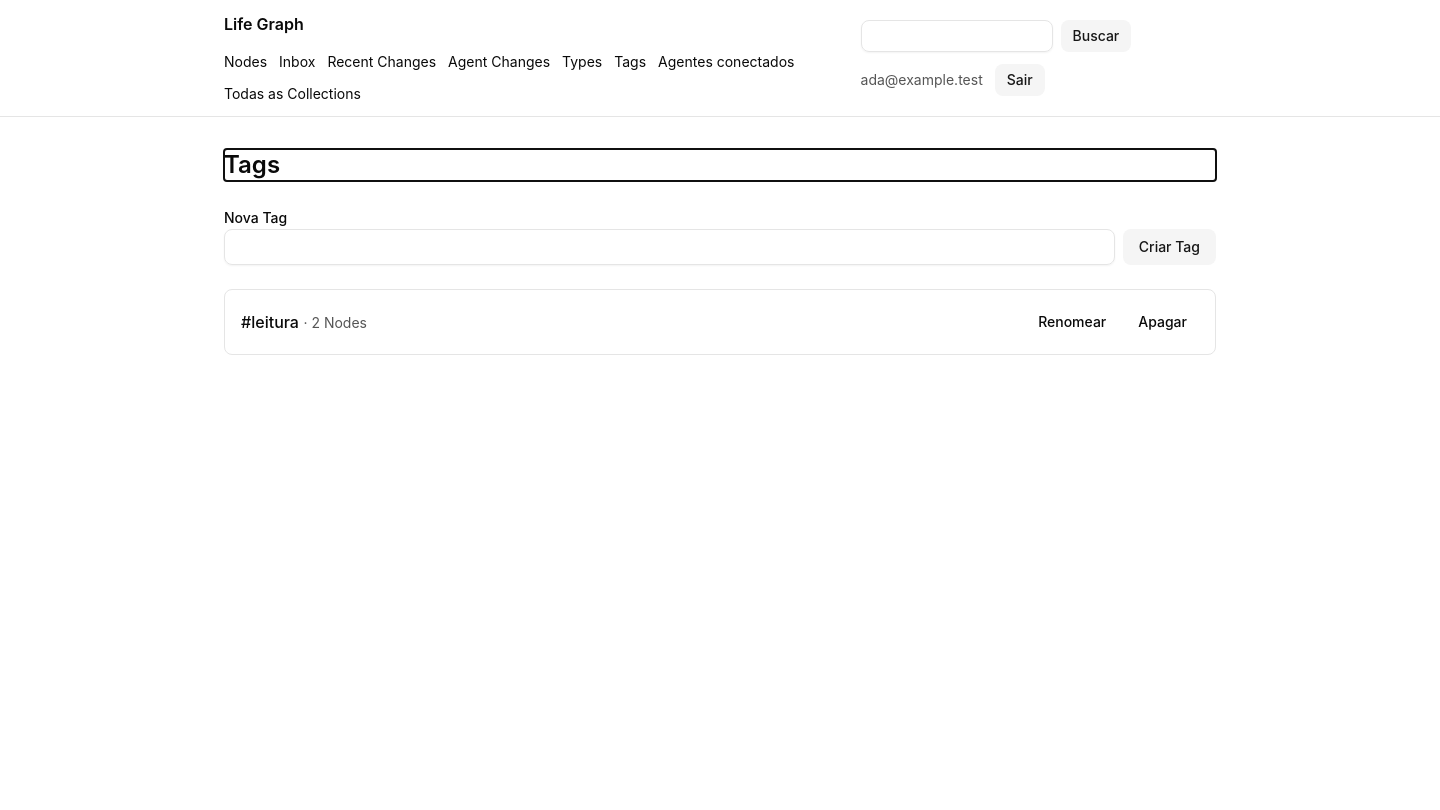
Scenario: tags page › asks before deleting a Tag and says how many Nodes lose it
The width and height of the screenshot is (1440, 810).
What coordinates should you click on to do the following:
click the button named "Apagar leitura"
I would click on:
 (1163, 322)
Its box is [1126,306,1199,338].
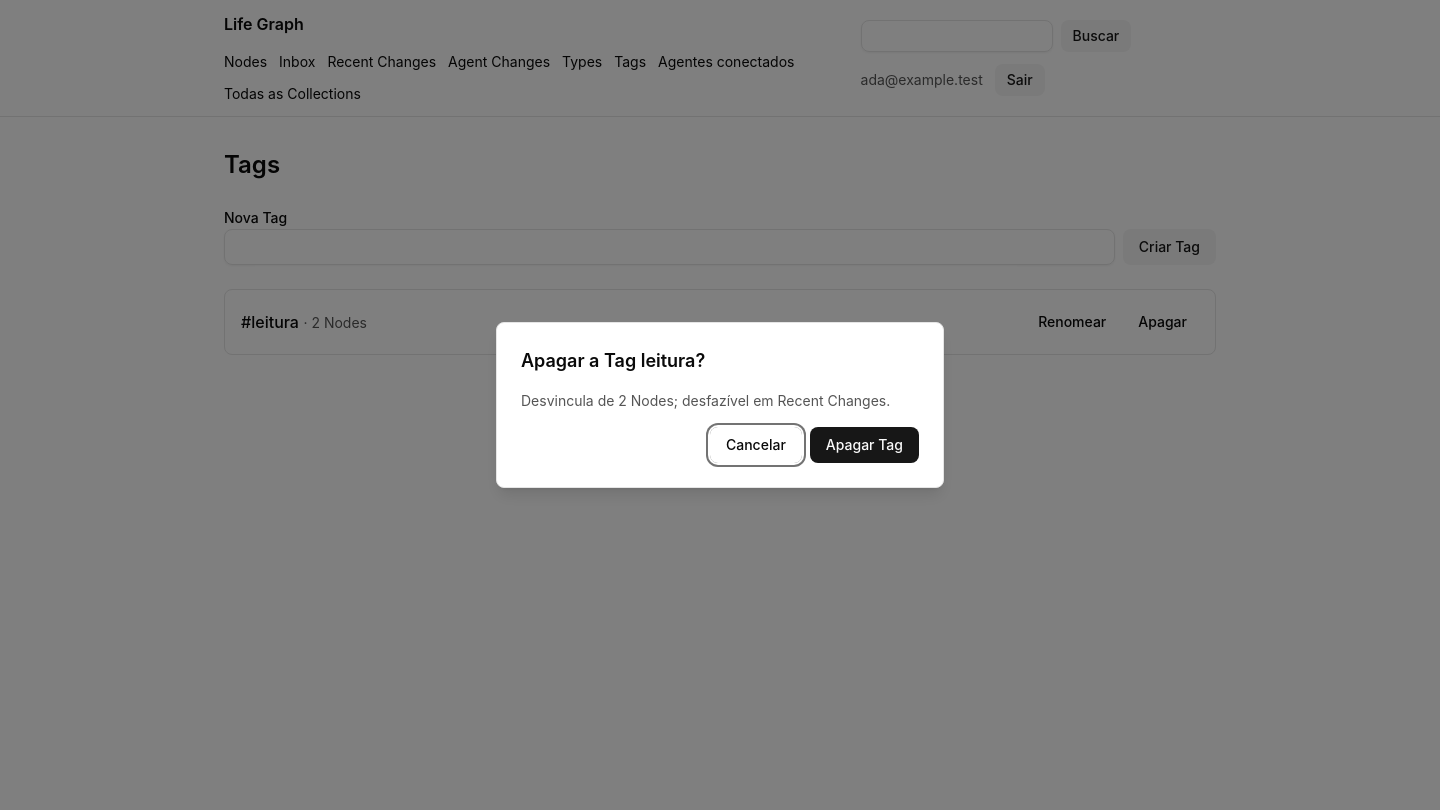
Expected: the dialog "Apagar a Tag leitura?" shows "Desvincula de 2 Nodes; desfazível", [521,392,890,409]
What coordinates should you click on to do the following:
click the button "Apagar Tag"
I would click on:
 (864, 445)
Its box is [810,427,919,463].
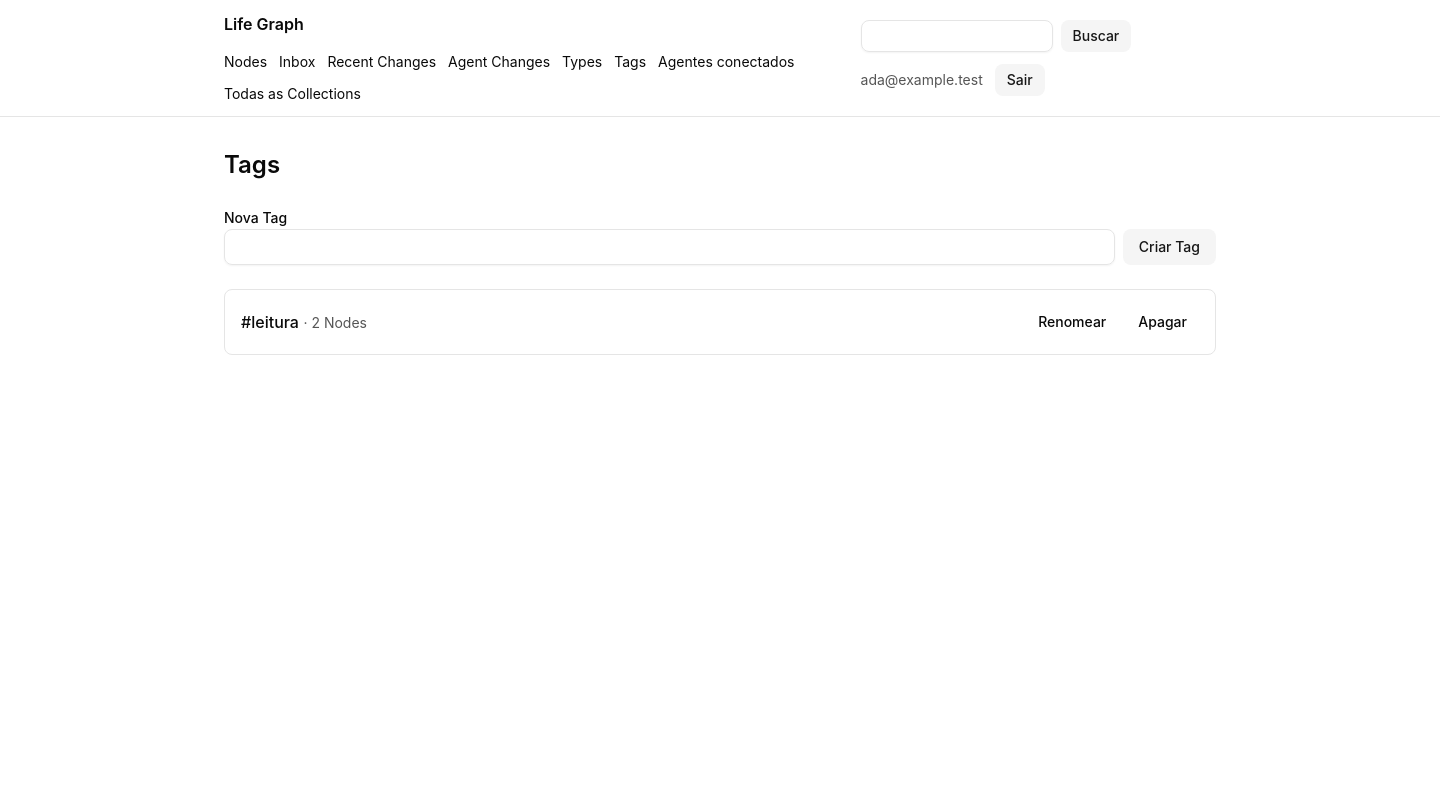
Expected: the dialog is gone
